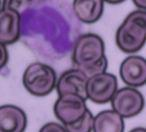N: (16, 0, 86, 62)
